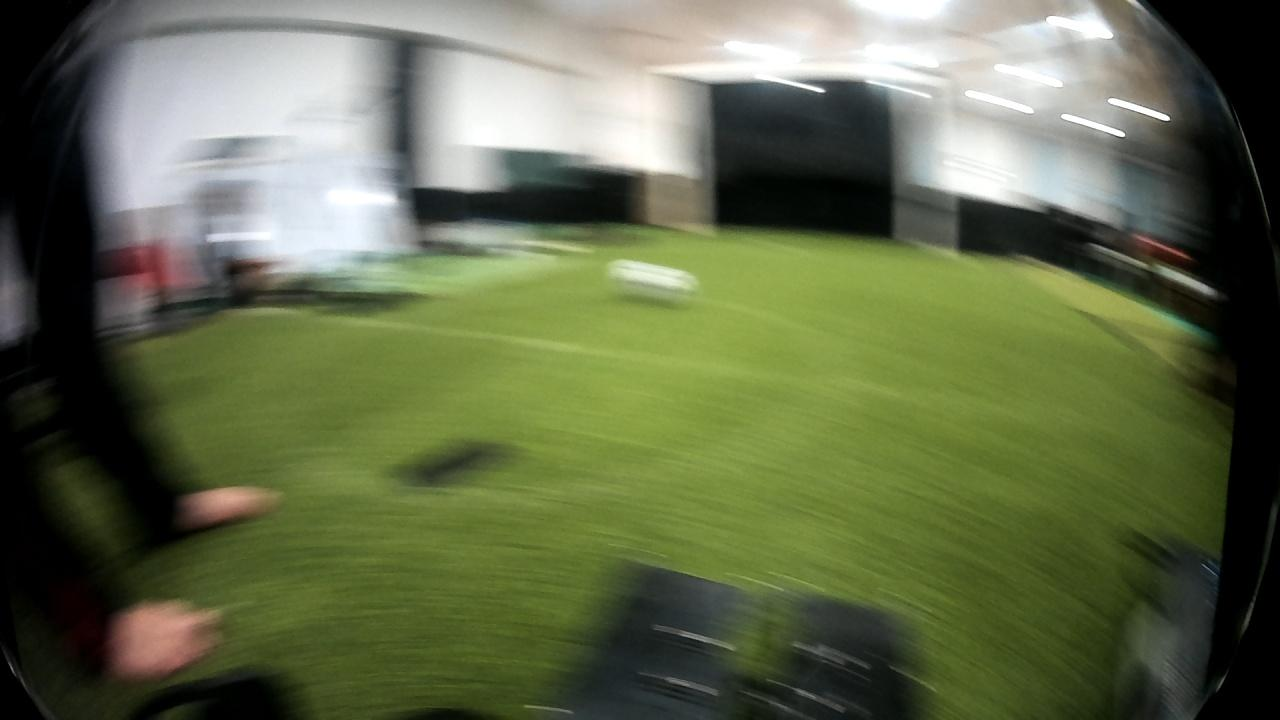ball: (601, 257, 697, 312)
